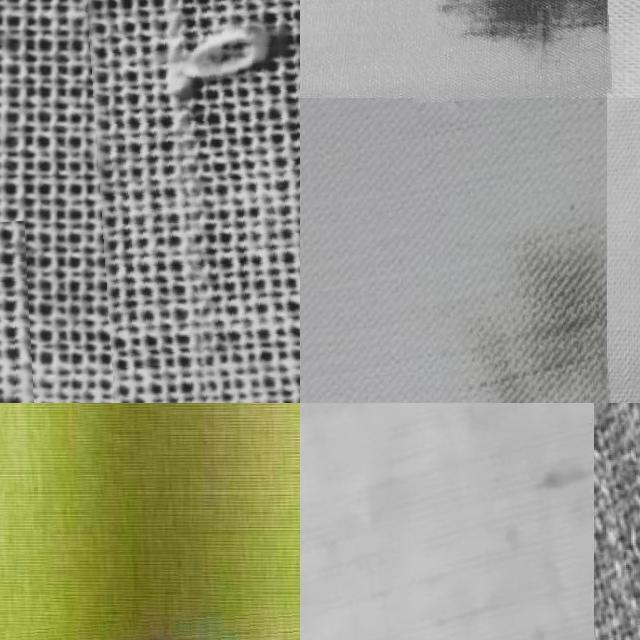Thread_other: (434, 194, 611, 403), (406, 0, 609, 101)
stains: (85, 0, 300, 403)
